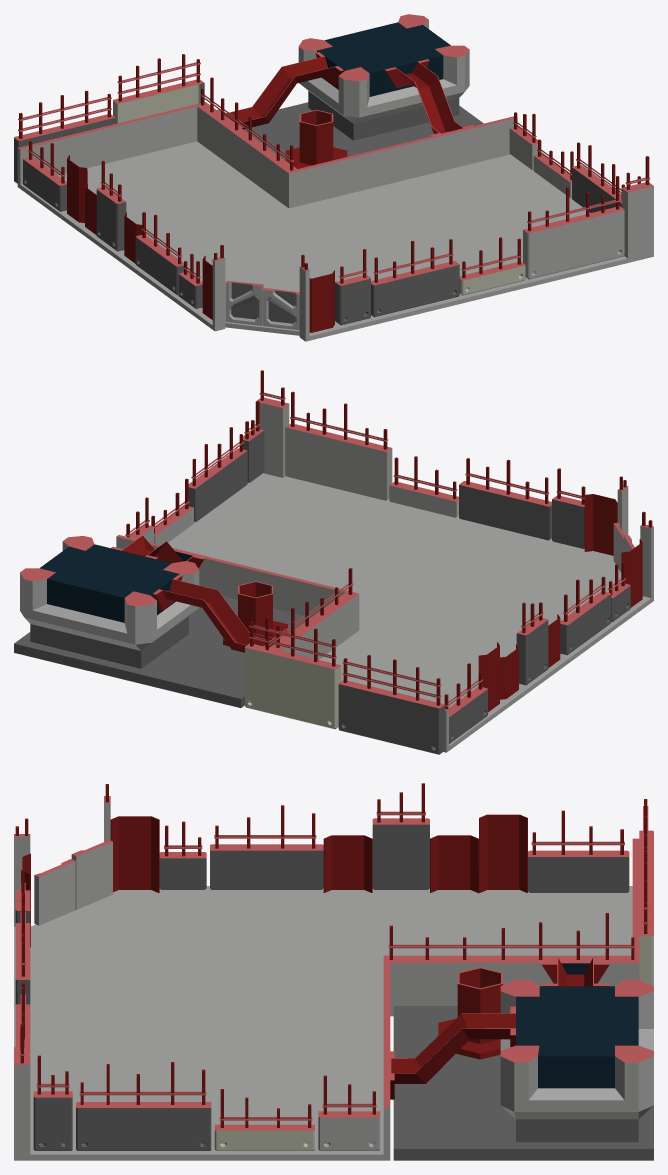
File: Foundations_10x10x5_15_6_2016.fbx
3 views of the same model, one above another, from view 1: azimuth 30°, elevation 25°; view 2: azimuth 150°, elevation 25°; view 3: azimuth 270°, elevation 25° (orthographic). The views are drawn at different scales.
Visible parts, largest first — view 1: H_10x10x5; view 2: H_10x10x5; view 3: H_10x10x5.
Part boxes in pixels (x1,y1,x2,y2): H_10x10x5: (14, 14, 653, 341); H_10x10x5: (14, 370, 653, 754); H_10x10x5: (14, 783, 653, 1160).
Size of the model in its own units: 972 by 226 by 978.
